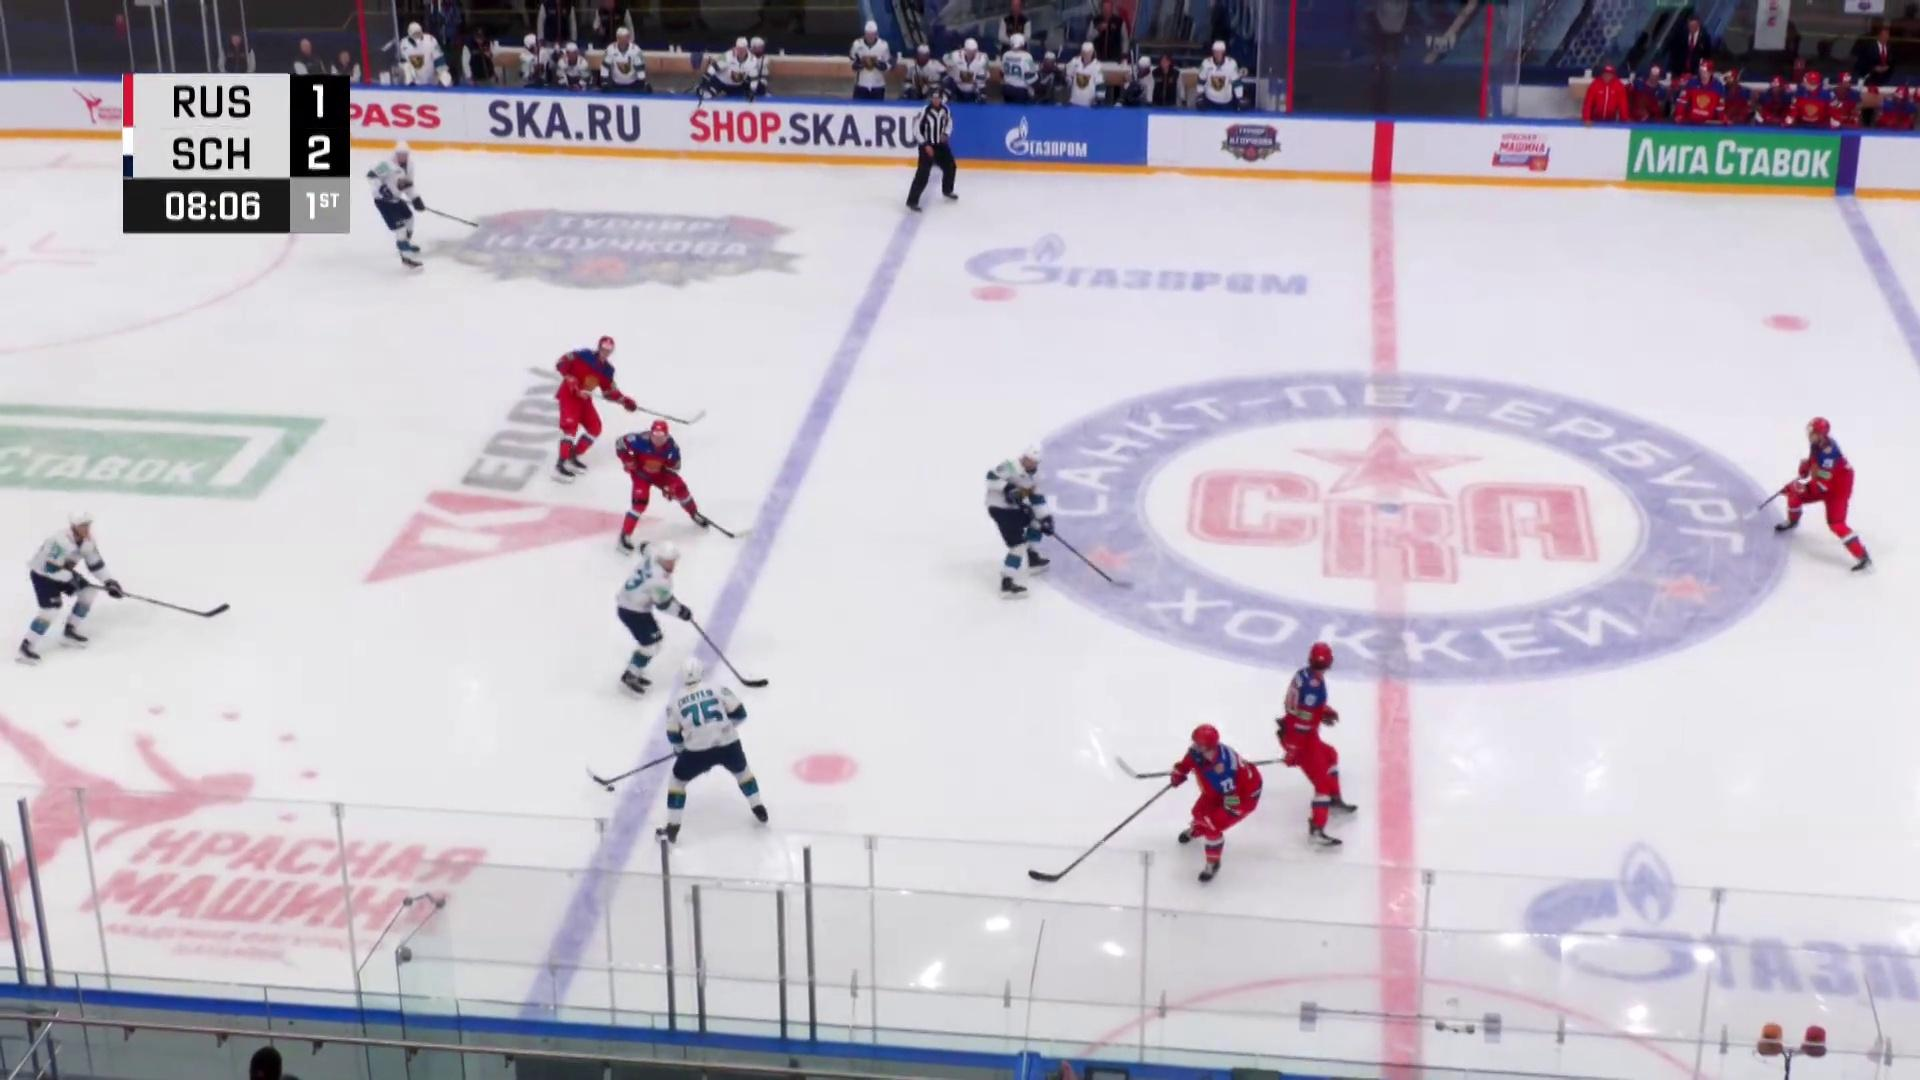ball: (606, 787, 615, 792)
